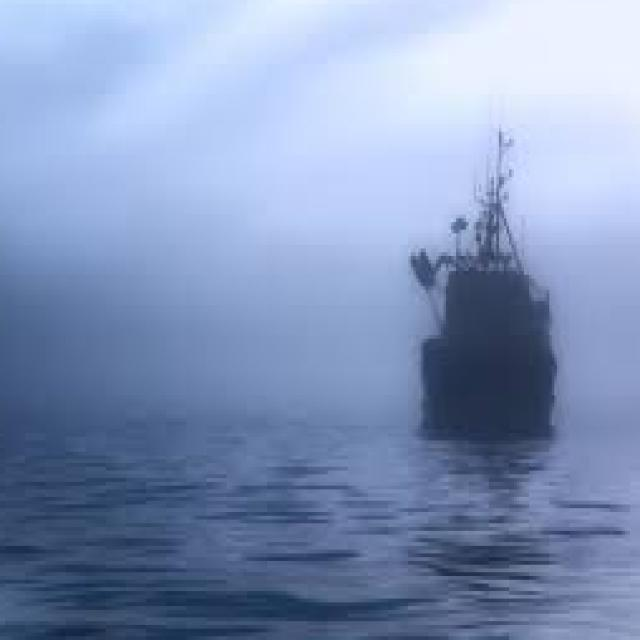fishing boat: (405, 126, 560, 435)
